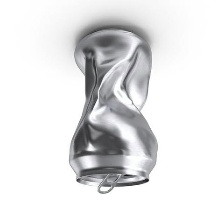can: (59, 21, 166, 197)
